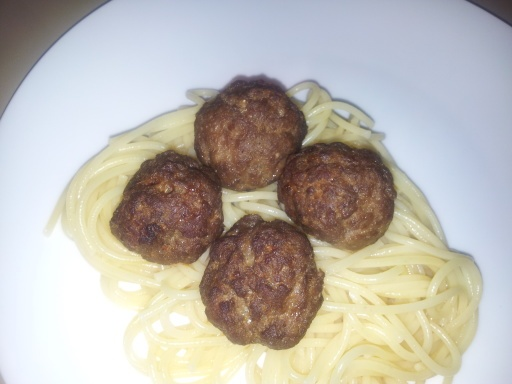background: (34, 43, 386, 230)
